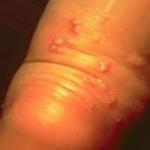Ants: (83, 74, 116, 111), (47, 35, 64, 53), (124, 53, 142, 68), (68, 18, 80, 33), (112, 112, 123, 127), (97, 59, 109, 72)
